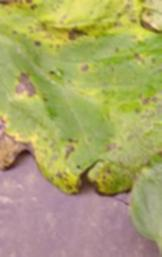Tomato leaf bacterial spot: (0, 0, 162, 194)
